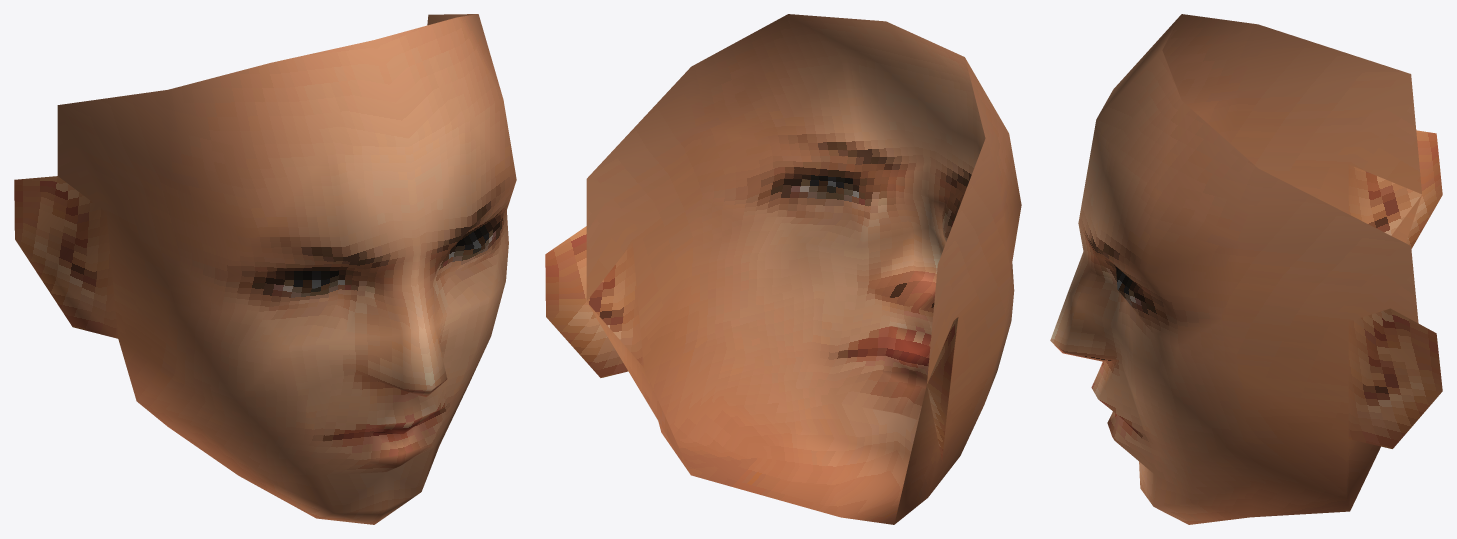
3 views of the same model, side by side, from view 1: azimuth 30°, elevation 25°; view 2: azimuth 150°, elevation 25°; view 3: azimuth 270°, elevation 25° (orthographic). The views are drawn at different scales.
Parts seen in each view (by area): view 1: editpl_m-0000-160, editpl_m-0000-159; view 2: editpl_m-0000-160, editpl_m-0000-159; view 3: editpl_m-0000-160, editpl_m-0000-159.
Part boxes in pixels (x1=…): editpl_m-0000-160: x1=14, y1=14, x2=516, y2=397; editpl_m-0000-159: x1=118, y1=337, x2=490, y2=524; editpl_m-0000-160: x1=545, y1=14, x2=1021, y2=460; editpl_m-0000-159: x1=587, y1=272, x2=983, y2=524; editpl_m-0000-160: x1=1050, y1=14, x2=1442, y2=448; editpl_m-0000-159: x1=1063, y1=195, x2=1421, y2=524.
Size of the model in its own units: 17.18 by 18.68 by 14.26.
Materials: 1 (1 with a texture image).
